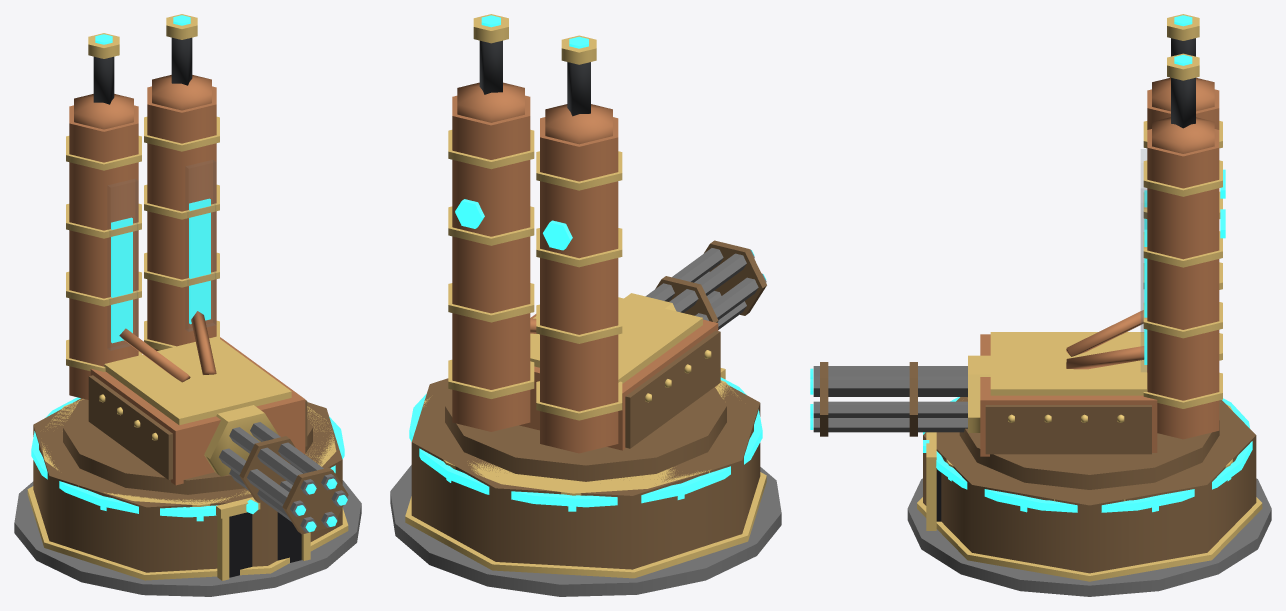
The model's file is Machinegoon_T2_Pepperbox.glb.
The picture shows the model from 3 angles, left to right: view 1: azimuth 30°, elevation 25°; view 2: azimuth 150°, elevation 25°; view 3: azimuth 270°, elevation 25°; orthographic projection. The views are drawn at different scales.
Parts seen in each view (by area): view 1: Machinegoon_T2_Pepperbox_Turret, Machinegoon_T2_Pepperbox_Base; view 2: Machinegoon_T2_Pepperbox_Turret, Machinegoon_T2_Pepperbox_Base; view 3: Machinegoon_T2_Pepperbox_Turret, Machinegoon_T2_Pepperbox_Base.
Part boxes in pixels (x1,y1,x2,y2): Machinegoon_T2_Pepperbox_Turret: [63, 14, 348, 534]; Machinegoon_T2_Pepperbox_Base: [14, 397, 361, 596]; Machinegoon_T2_Pepperbox_Turret: [445, 14, 766, 481]; Machinegoon_T2_Pepperbox_Base: [390, 368, 781, 596]; Machinegoon_T2_Pepperbox_Turret: [810, 14, 1225, 489]; Machinegoon_T2_Pepperbox_Base: [907, 397, 1271, 596].
Bounding box in the file's own units: 3.5 × 5.09 × 4.44.
